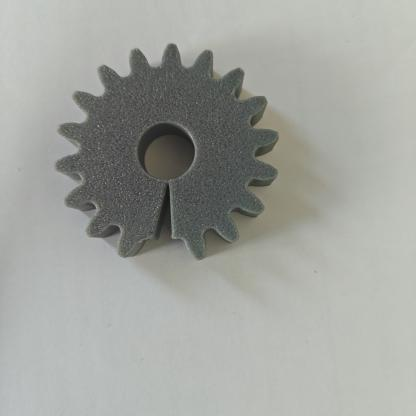defect: (124, 159, 218, 266)
gear: (55, 34, 299, 271)
